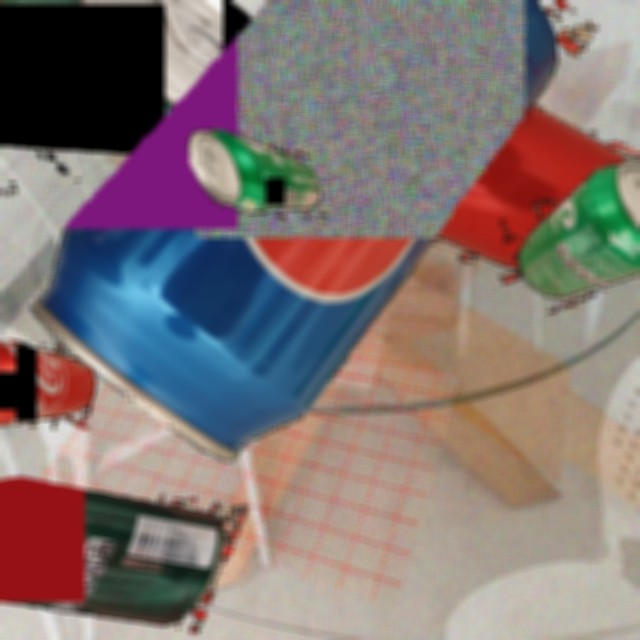coca cola: (154, 0, 640, 432), (0, 338, 101, 429)
pepsi: (0, 0, 640, 492)
schweppes: (0, 0, 362, 333), (0, 386, 260, 640)
sprite: (484, 138, 640, 330), (181, 108, 331, 243)
